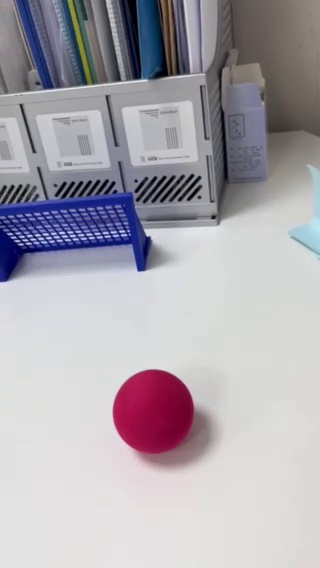goal: (0, 193, 152, 285)
redball: (111, 369, 194, 455)
